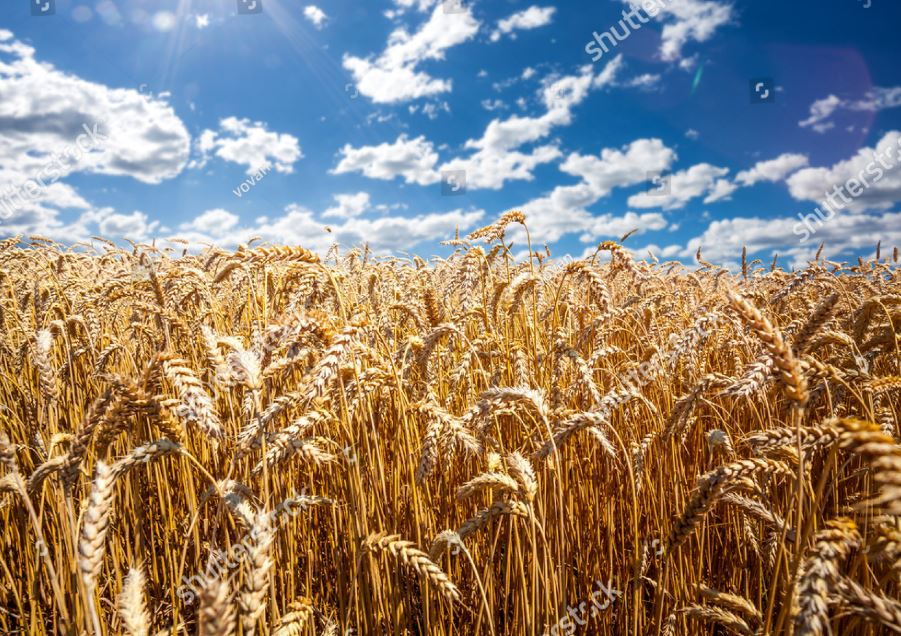Wheat: (71, 325, 667, 578)
